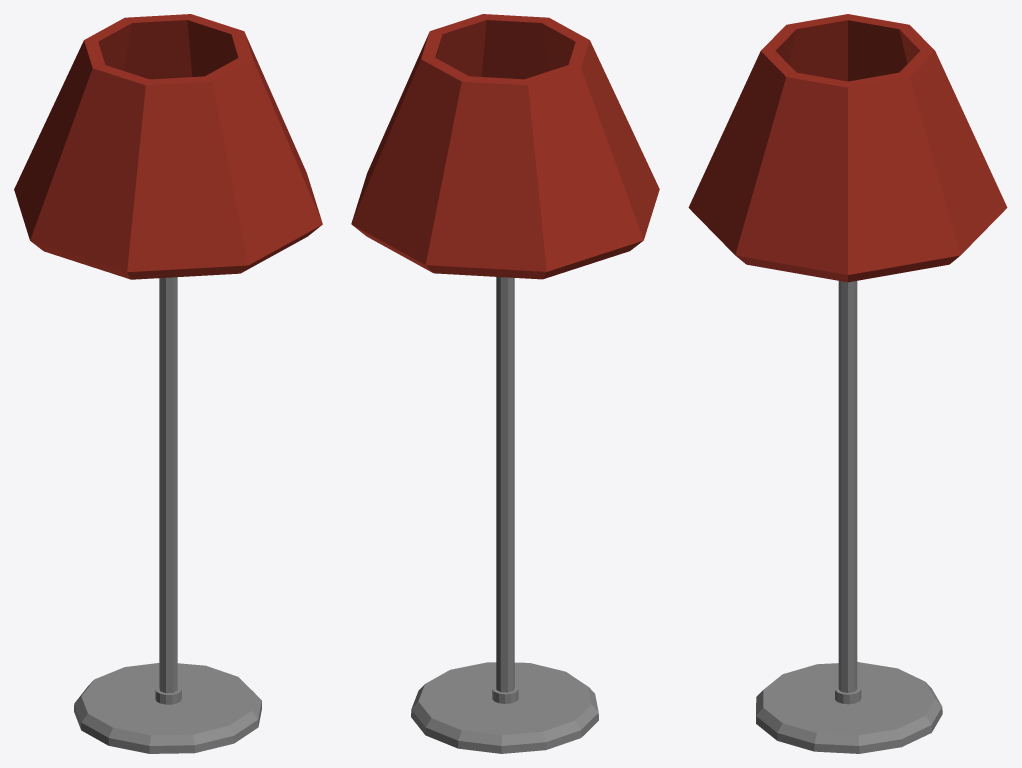
The model's file is Lamp A.gltf.
The picture shows the model from 3 angles, left to right: view 1: azimuth 30°, elevation 25°; view 2: azimuth 150°, elevation 25°; view 3: azimuth 270°, elevation 25°; orthographic projection.
Parts seen in each view (by area): view 1: Lamp A; view 2: Lamp A; view 3: Lamp A.
Boxes of the visible parts, left/top/right/bottom form: Lamp A: left=14, top=14, right=322, bottom=753; Lamp A: left=351, top=14, right=659, bottom=753; Lamp A: left=688, top=14, right=1007, bottom=753.
Bounding box in the file's own units: 365 × 839 × 365.
